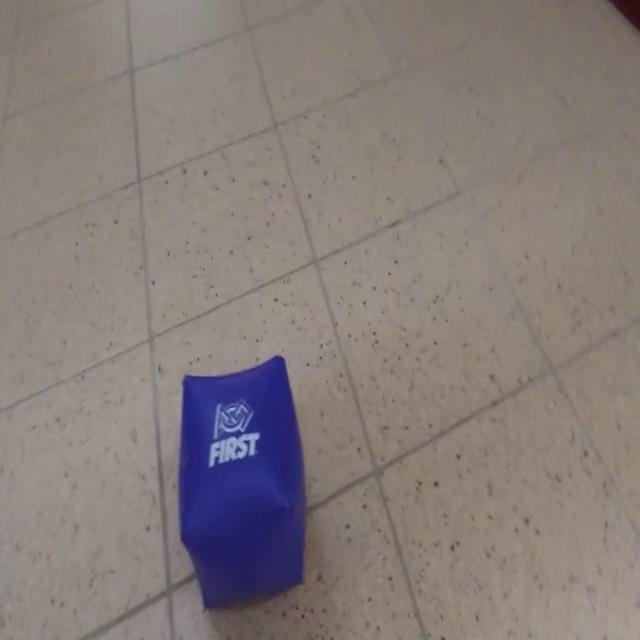frc_cube: (178, 352, 307, 612)
